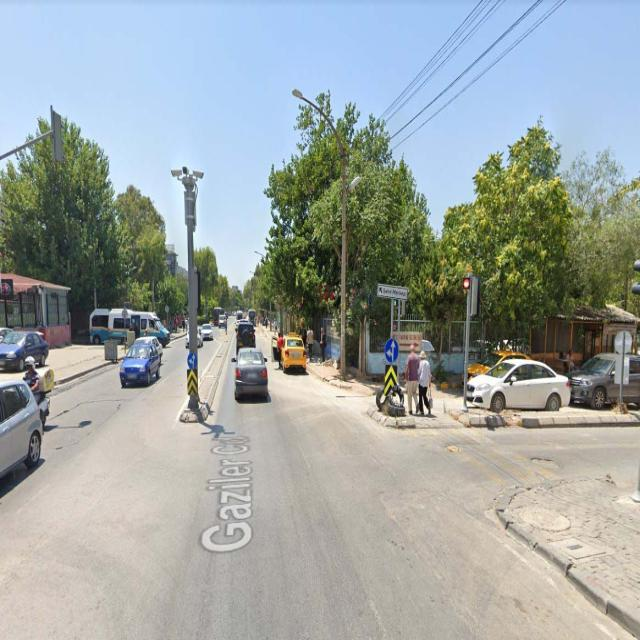ilerisol: (386, 338, 398, 364), (188, 353, 196, 366)
